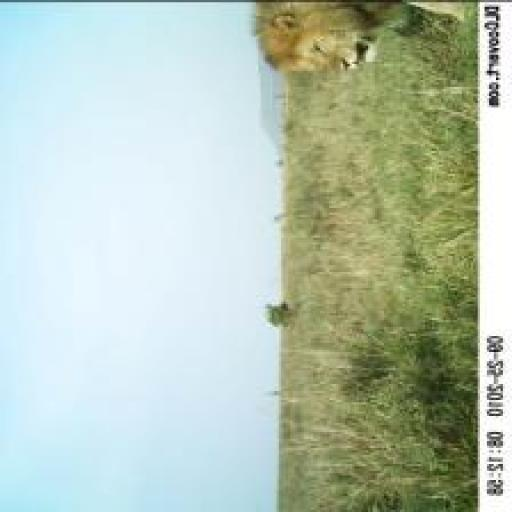lion: (235, 2, 470, 103)
